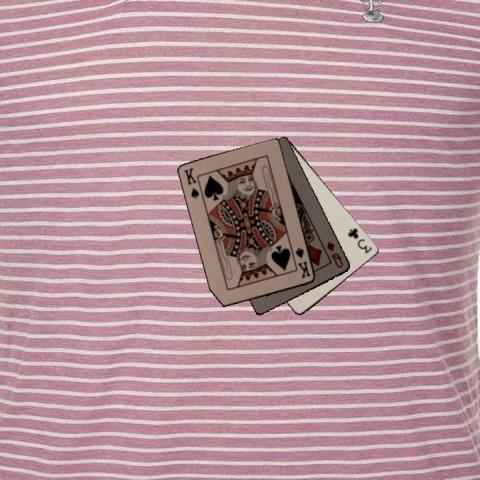3c: (346, 225, 374, 255)
Ks: (181, 164, 201, 200), (293, 245, 312, 279)
Qd: (324, 238, 345, 269)
